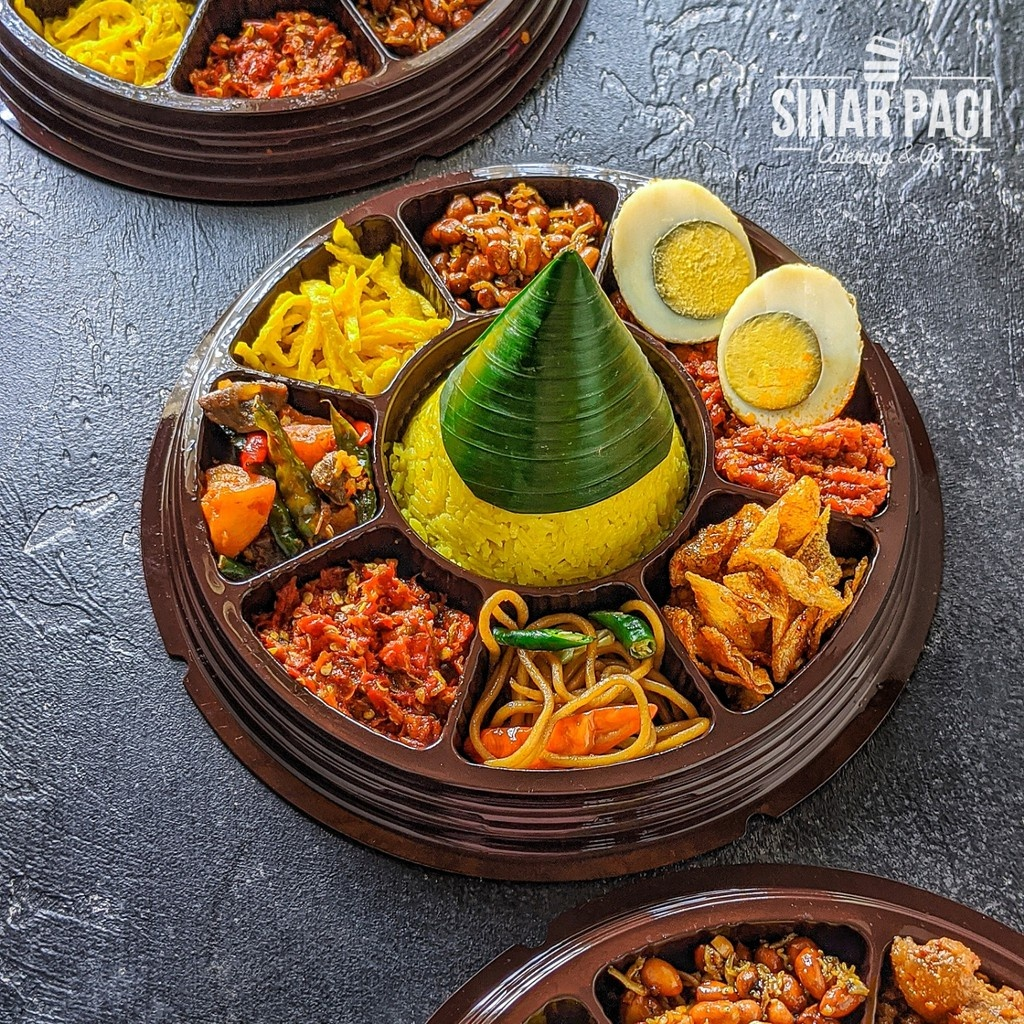nasi_tumpeng: (199, 167, 892, 772)
